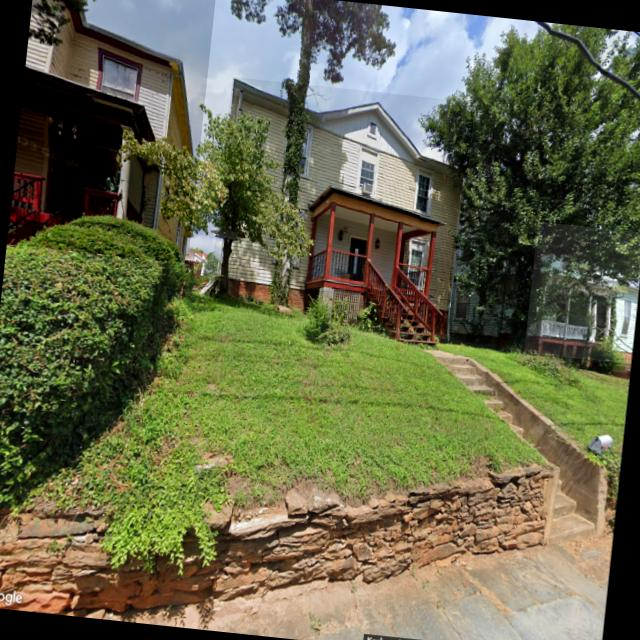House: (208, 76, 474, 334), (6, 0, 215, 262), (524, 221, 640, 363)
